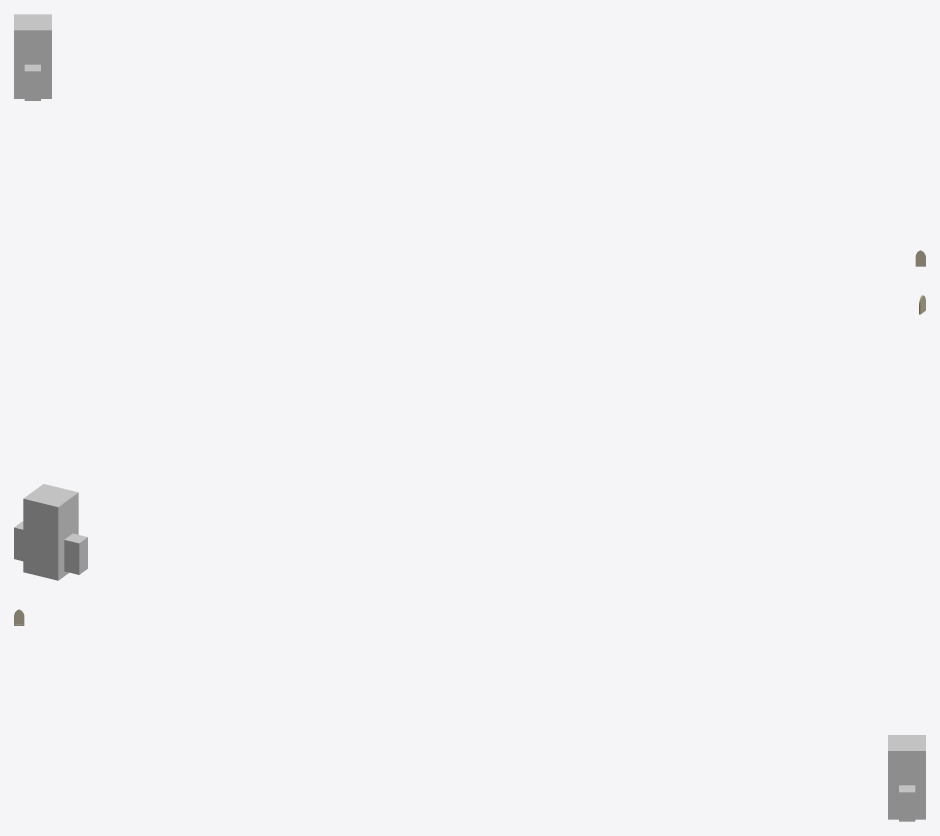
File: vanguard.glb
3 renders of one model, top to bottom at view 1: azimuth 90°, elevation 25°; view 2: azimuth 150°, elevation 25°; view 3: azimuth 270°, elevation 25°, orthographic. The views are drawn at different scales.
Size of the model in its own units: 31.8 by 5.2 by 62.53.
